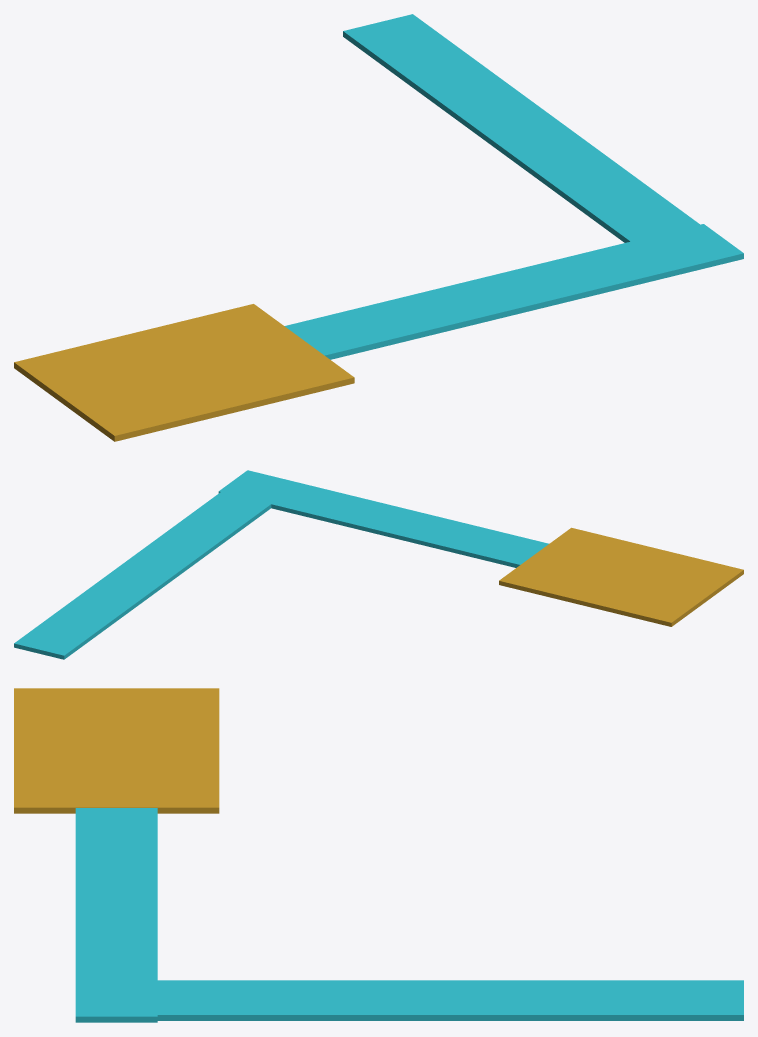
The model's file is route.turn_left.glb.
3 renders of one model, top to bottom at view 1: azimuth 30°, elevation 25°; view 2: azimuth 150°, elevation 25°; view 3: azimuth 270°, elevation 25°, orthographic. The views are drawn at different scales.
Visible parts, largest first — view 1: route_arrow_head, route_leg_forward, route_leg_left; view 2: route_arrow_head, route_leg_forward, route_leg_left; view 3: route_leg_forward, route_arrow_head, route_leg_left.
Part boxes in pixels (bbox=[...]): route_arrow_head: bbox=[14, 304, 354, 441]; route_leg_forward: bbox=[343, 14, 733, 265]; route_leg_left: bbox=[284, 224, 743, 359]; route_arrow_head: bbox=[499, 527, 743, 626]; route_leg_forward: bbox=[14, 474, 294, 659]; route_leg_left: bbox=[218, 470, 548, 567]; route_leg_forward: bbox=[89, 980, 743, 1020]; route_arrow_head: bbox=[14, 688, 219, 813]; route_leg_left: bbox=[75, 808, 157, 1022].
Bounding box in the file's own units: 3.02 × 0.0265 × 2.84.
